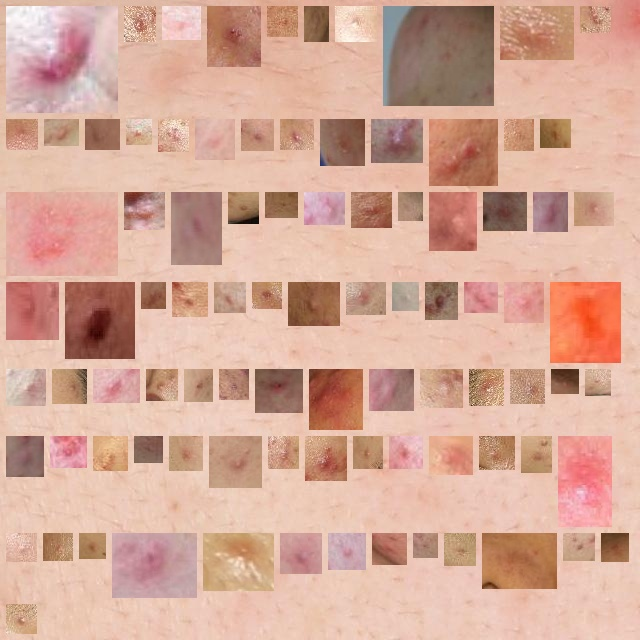papule: (14, 14, 110, 105), (391, 14, 486, 98), (14, 200, 110, 268), (558, 290, 613, 355), (120, 541, 189, 590), (73, 290, 127, 351), (566, 444, 604, 519), (211, 533, 266, 583), (437, 127, 490, 178), (490, 541, 549, 581), (508, 14, 566, 52), (309, 377, 355, 422), (179, 200, 214, 257), (215, 14, 253, 59), (14, 290, 51, 332), (437, 200, 469, 243), (217, 444, 254, 480), (379, 127, 415, 155), (296, 290, 332, 318), (328, 127, 357, 158), (263, 377, 295, 405), (377, 377, 406, 403), (313, 444, 339, 473), (491, 199, 519, 223), (288, 541, 314, 566), (437, 444, 465, 467), (14, 444, 39, 469), (428, 377, 455, 400), (203, 127, 227, 152), (512, 290, 536, 315), (101, 377, 132, 395), (132, 200, 157, 222), (312, 200, 343, 217), (343, 14, 369, 34), (14, 377, 38, 398), (359, 200, 384, 220), (336, 541, 358, 562), (541, 200, 560, 224), (582, 200, 606, 218), (170, 14, 193, 32), (354, 290, 378, 307), (477, 377, 496, 398), (180, 290, 200, 309), (433, 290, 450, 312), (60, 377, 79, 396), (518, 377, 537, 396), (101, 444, 120, 463), (487, 444, 507, 462), (177, 444, 195, 463), (58, 444, 79, 460), (132, 14, 148, 34), (529, 444, 544, 465), (397, 444, 415, 461), (380, 541, 399, 557), (93, 127, 112, 142), (249, 127, 266, 143), (452, 541, 468, 558), (288, 127, 306, 142), (472, 290, 490, 305), (154, 377, 170, 393), (166, 127, 181, 144), (276, 444, 291, 461), (14, 127, 30, 142), (236, 200, 251, 216), (222, 290, 238, 305), (361, 444, 375, 461), (275, 14, 290, 29), (512, 127, 526, 143), (192, 377, 205, 394), (227, 377, 241, 392), (14, 612, 29, 626), (52, 127, 71, 138), (548, 127, 563, 140), (14, 541, 29, 554), (571, 541, 587, 553), (312, 14, 321, 34), (559, 377, 571, 392), (273, 200, 290, 210), (51, 541, 65, 553), (588, 14, 603, 25), (609, 541, 621, 554), (260, 290, 274, 301), (400, 290, 411, 303), (142, 444, 155, 455), (406, 200, 415, 213), (593, 377, 603, 388), (87, 541, 98, 551), (134, 127, 144, 137), (149, 290, 158, 301), (421, 541, 430, 550)
